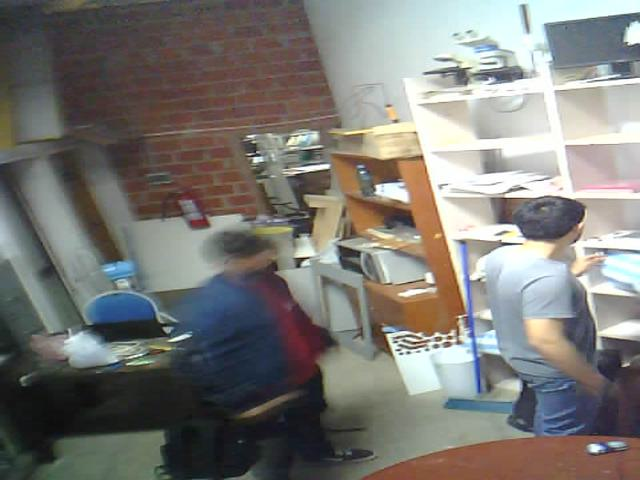person: (162, 196, 408, 480), (463, 159, 640, 452)
